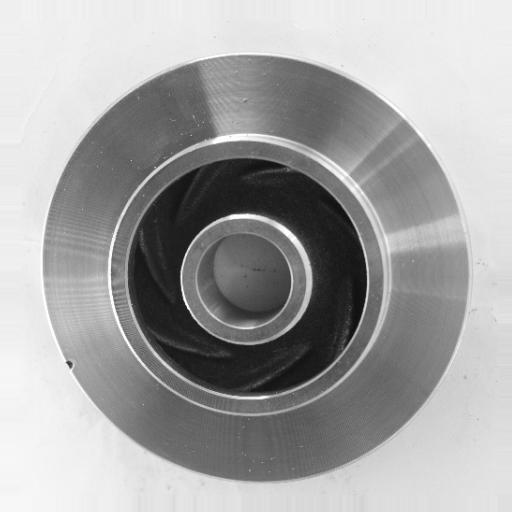crack: (57, 352, 86, 377)
unpolished_casting: (40, 51, 473, 486)
